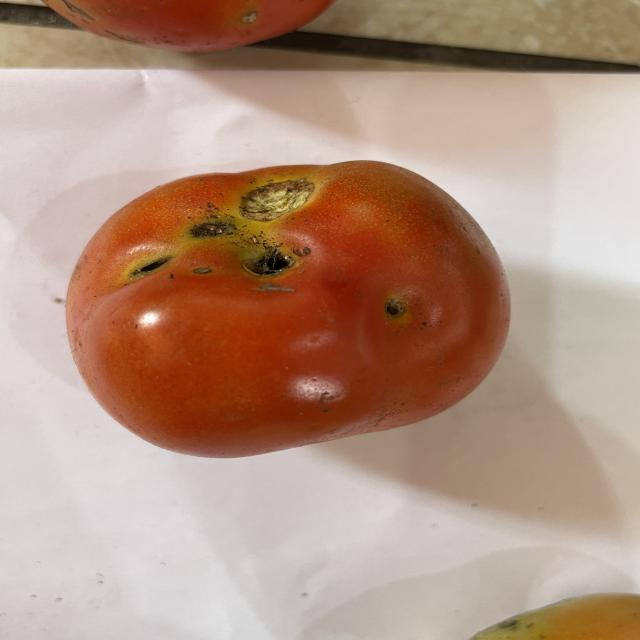fruitworm_bore: (247, 236, 310, 284), (111, 245, 176, 284), (181, 206, 238, 240), (376, 290, 412, 322)
